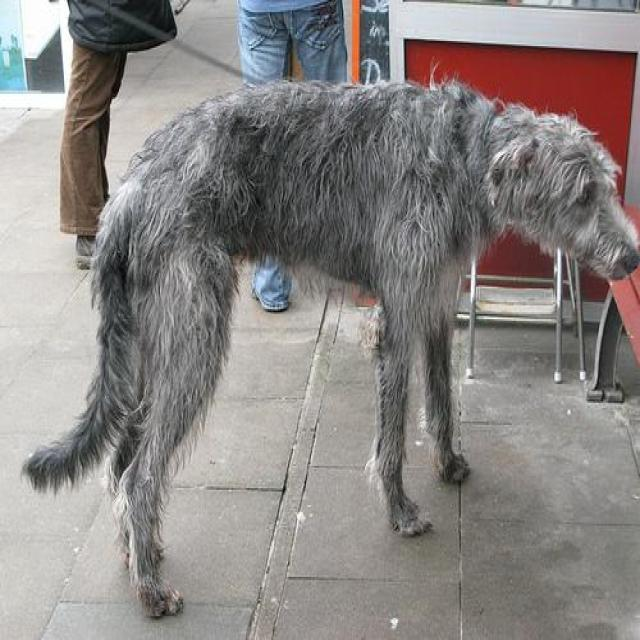irish_wolfhound: (13, 71, 639, 624)
